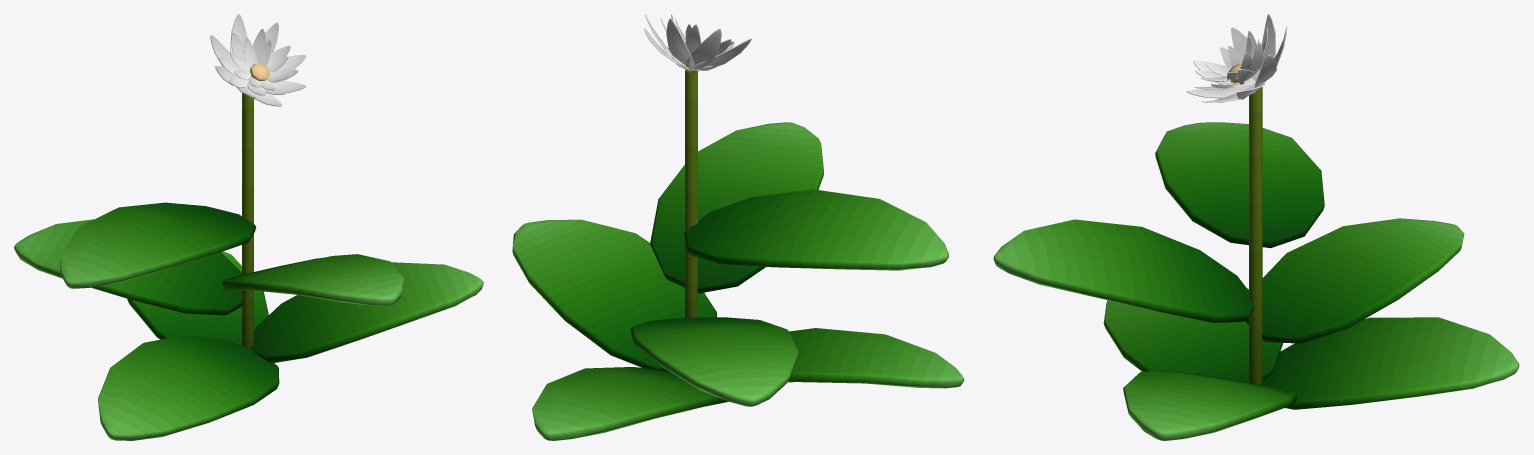
Rendered from SM_Kadupul.fbx.
3 views of the same model, side by side, from view 1: azimuth 30°, elevation 25°; view 2: azimuth 150°, elevation 25°; view 3: azimuth 270°, elevation 25° (orthographic). The views are drawn at different scales.
Visible parts, largest first — view 1: SM_Kadupul; view 2: SM_Kadupul; view 3: SM_Kadupul.
Boxes of the visible parts, left/top/right/bottom form: SM_Kadupul: left=14, top=14, right=483, bottom=440; SM_Kadupul: left=512, top=14, right=964, bottom=440; SM_Kadupul: left=993, top=14, right=1519, bottom=440.
Bounding box in the file's own units: 256 × 206 × 260.
Materials: 1 (1 with a texture image).
